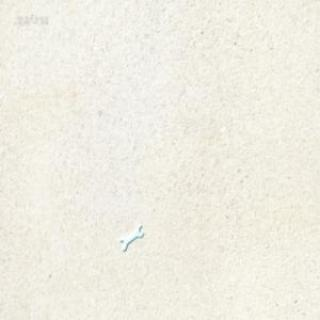Wrenchtrack_idkeyframe: (120, 224, 142, 251)
